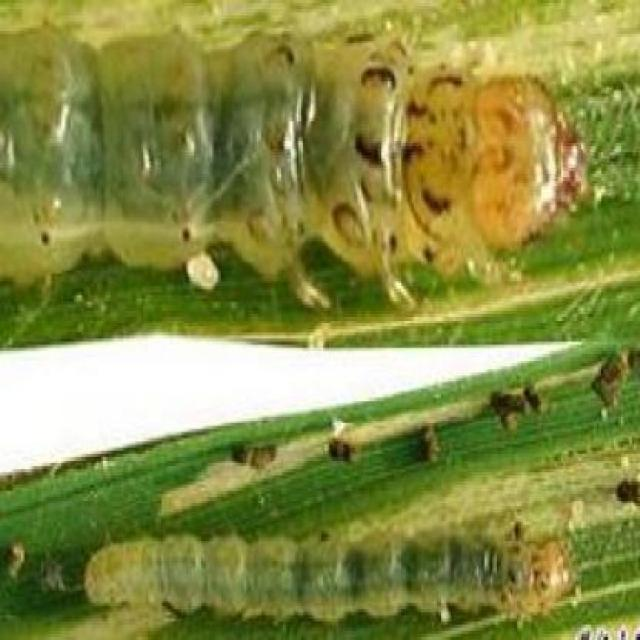leaf-folder: (12, 9, 596, 296), (69, 510, 589, 624)
